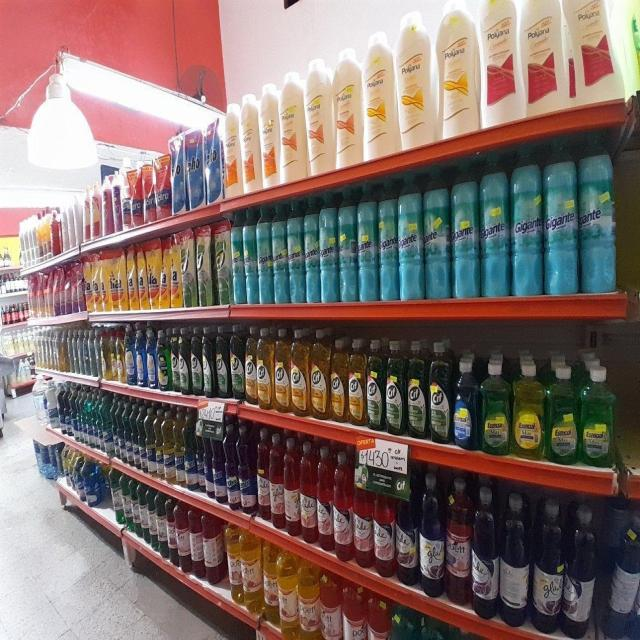ala_sachet_amarillo: (183, 228, 195, 308), (170, 232, 182, 308), (148, 238, 160, 310), (136, 242, 148, 310), (160, 236, 170, 309), (109, 248, 120, 312), (127, 244, 137, 311), (93, 252, 102, 311), (119, 248, 127, 311), (100, 251, 108, 311), (84, 255, 92, 311)
cif_conc_bot_amarilla: (310, 328, 330, 420), (290, 328, 310, 417), (348, 338, 366, 428), (330, 336, 348, 424), (257, 326, 273, 409), (274, 328, 289, 413), (245, 326, 256, 405)
cif_conc_botella_verde: (428, 339, 452, 444), (406, 340, 428, 438), (386, 339, 406, 435), (366, 338, 385, 431), (230, 324, 244, 402), (215, 324, 229, 399), (202, 326, 215, 398), (190, 326, 202, 396), (179, 326, 190, 394), (158, 328, 169, 392), (170, 327, 179, 393)
esencial: (579, 366, 617, 467), (512, 355, 545, 459), (546, 362, 578, 464), (480, 352, 510, 454), (453, 353, 478, 449)
magistral_con_azul: (124, 324, 136, 385), (146, 326, 156, 389), (136, 324, 146, 387)
